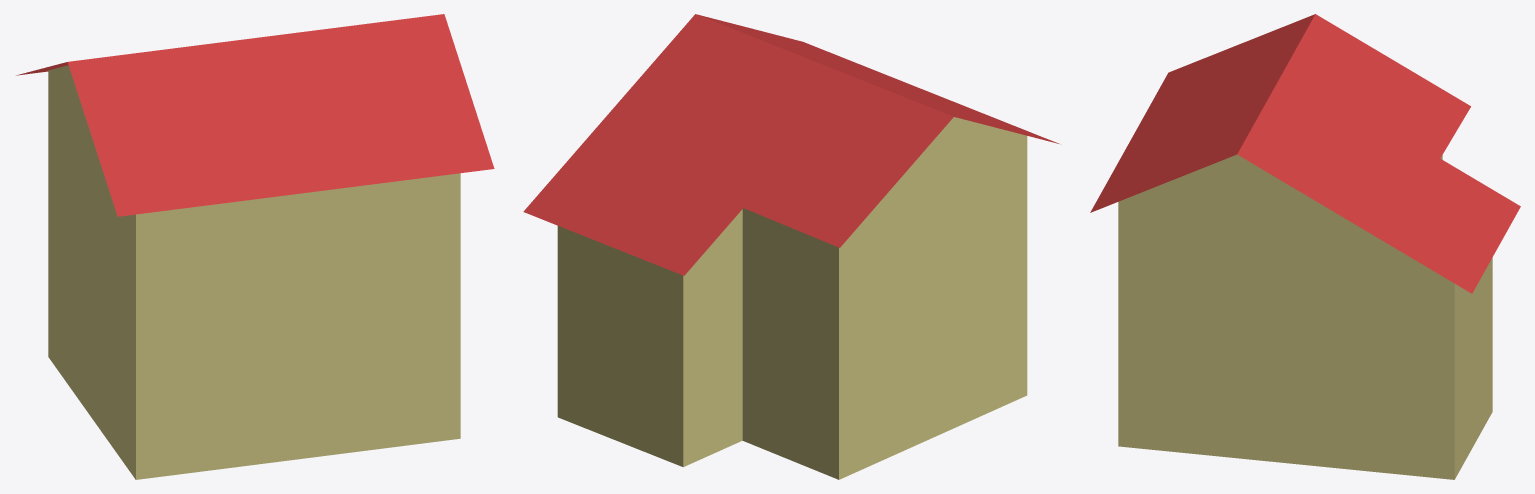
3 renders of one model, left to right at view 1: azimuth 30°, elevation 25°; view 2: azimuth 150°, elevation 25°; view 3: azimuth 270°, elevation 25°, orthographic. The views are drawn at different scales.
Size of the model in its own units: 13.47 by 13.74 by 11.05.
